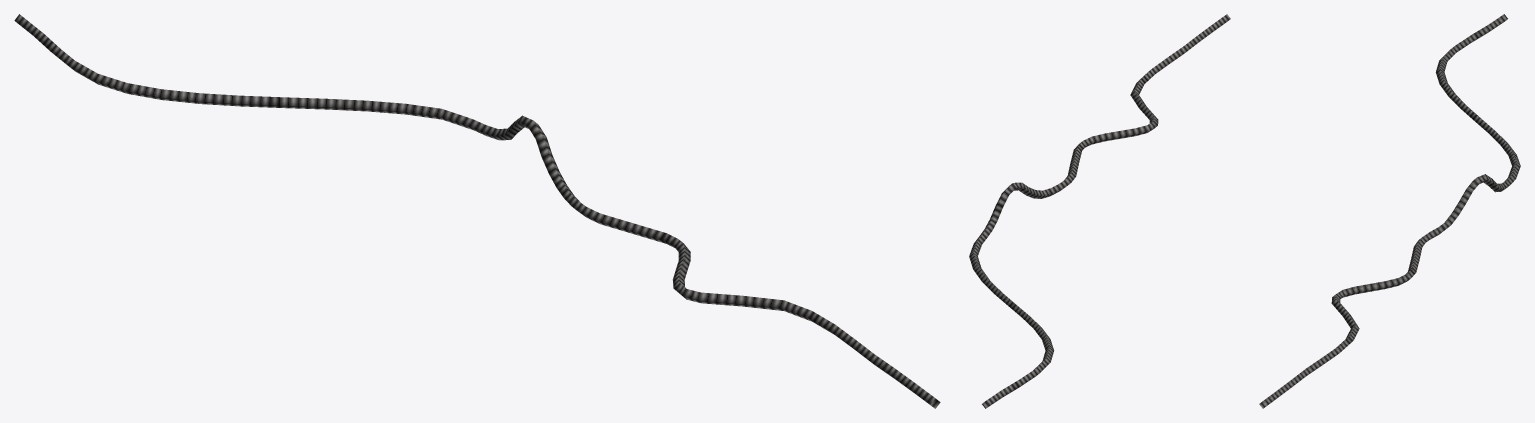
File: Hose_E.fbx
The picture shows the model from 3 angles, left to right: view 1: azimuth 30°, elevation 25°; view 2: azimuth 150°, elevation 25°; view 3: azimuth 330°, elevation 25°; orthographic projection. The views are drawn at different scales.
Visible parts, largest first — view 1: ___labPipe1; view 2: ___labPipe1; view 3: ___labPipe1.
Boxes of the visible parts, left/top/right/bottom form: ___labPipe1: left=14, top=14, right=940, bottom=408; ___labPipe1: left=969, top=14, right=1230, bottom=408; ___labPipe1: left=1259, top=14, right=1520, bottom=408.
Size of the model in its own units: 9.01 by 1.38 by 31.32.
